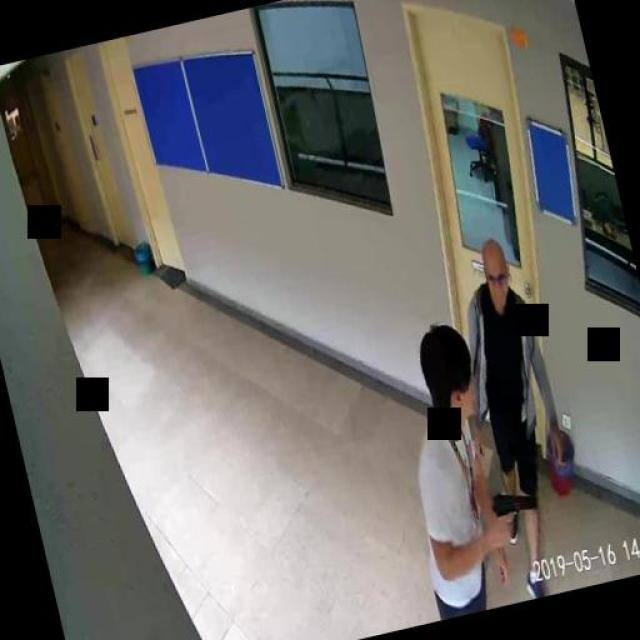gun: (488, 483, 542, 542)
